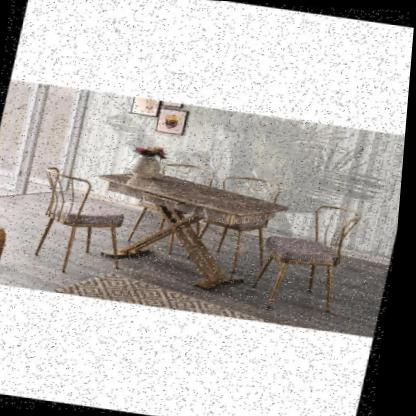Table: (78, 151, 302, 302)
